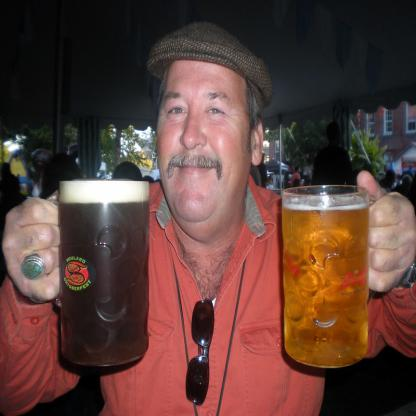drinking: (43, 180, 150, 366), (282, 185, 378, 368)
